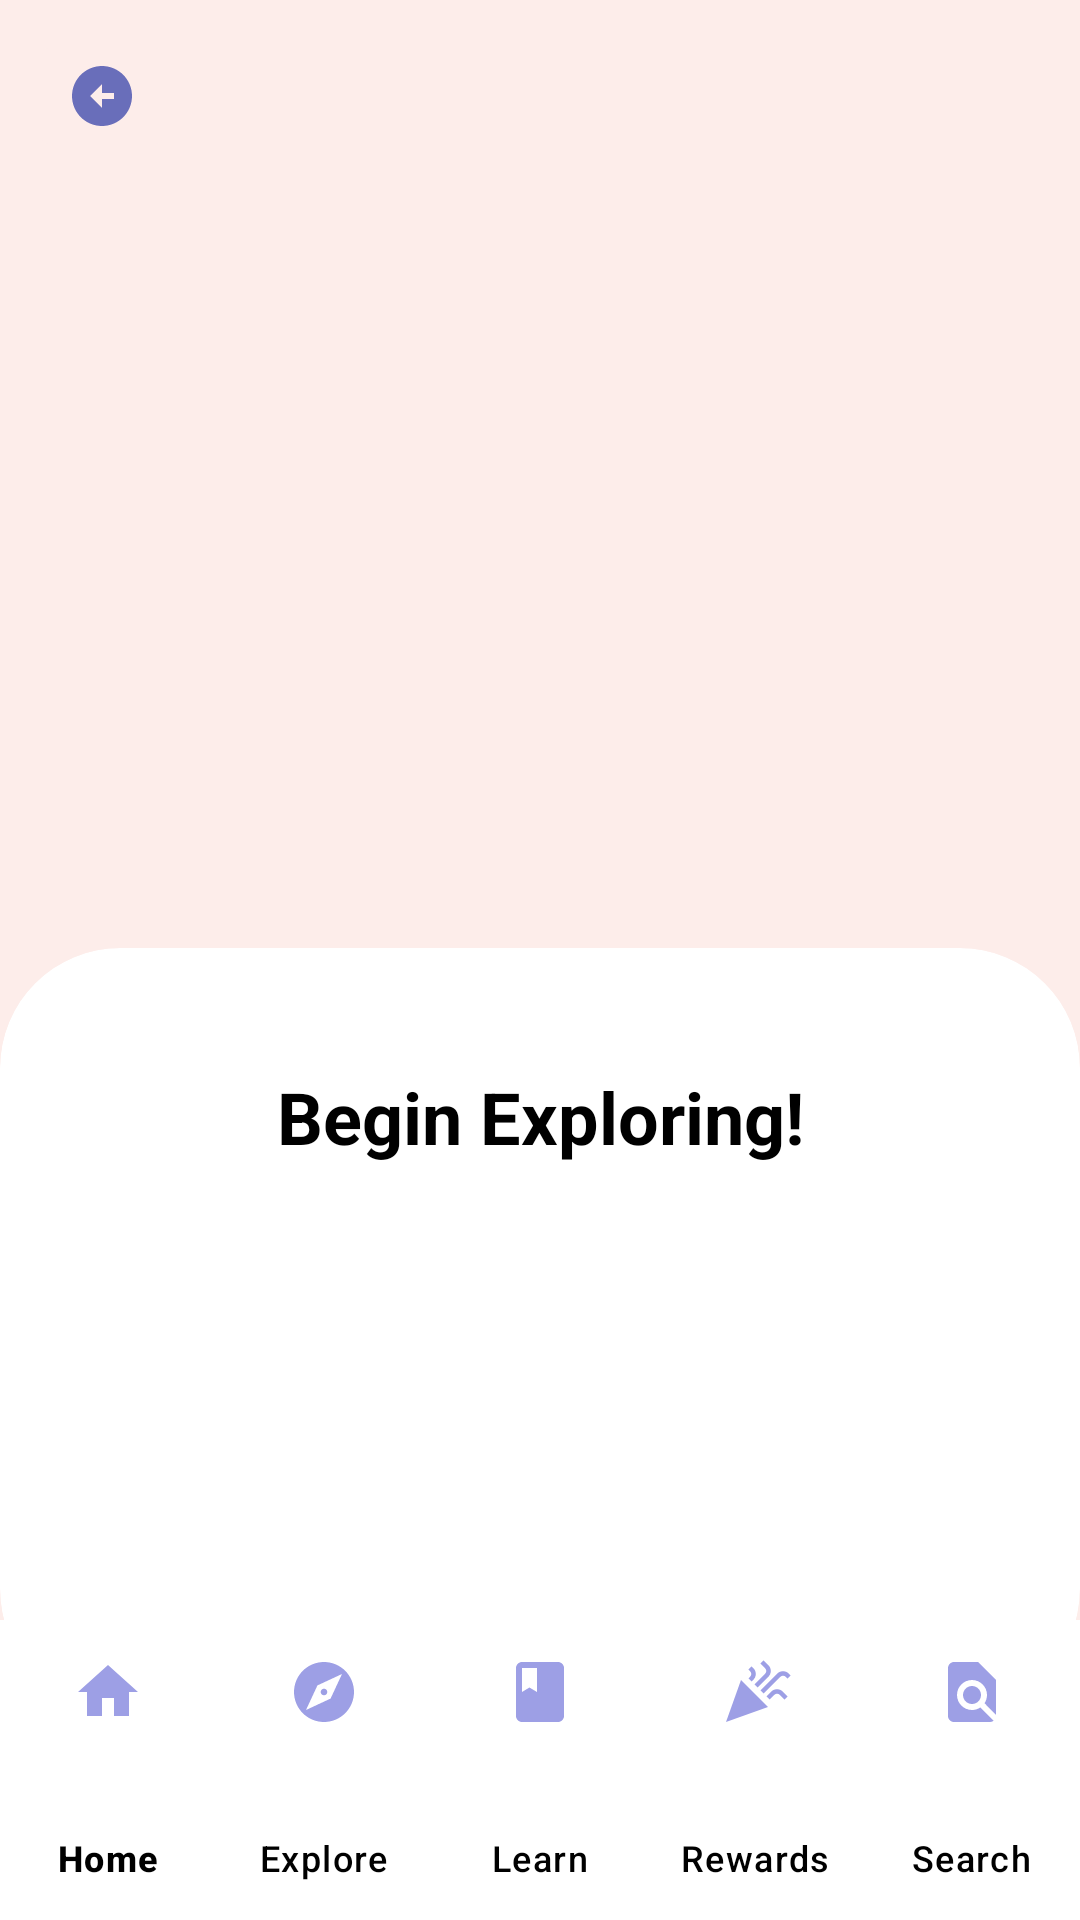

Icon bounding boxes for this 1080×1920 phone screenshot, format box=[x1, y1, x2, y2]:
arrow circle left: box=[72, 66, 132, 126]
